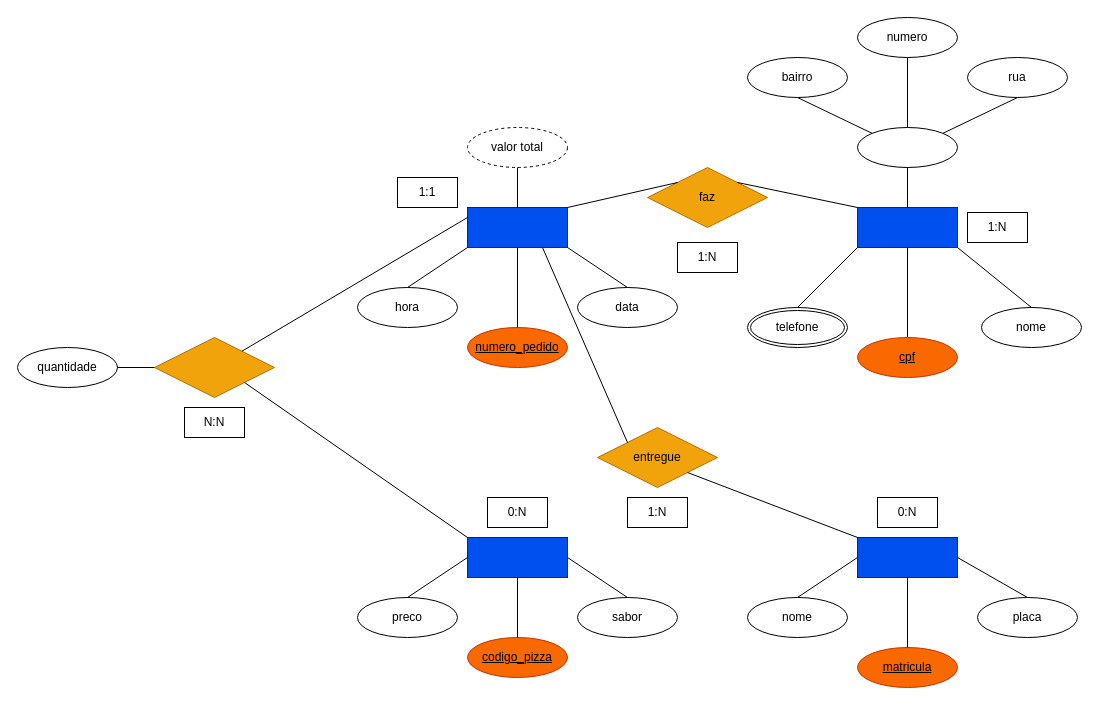
The diagram is 1099 pixels wide and 705 high, and some of its shapes have lost their labels. The shapes that lost their labels are listed below. From the top down, each one's centre as x and y in pixels, then its label:
At [907,147]: "endereco".
At [517,227]: "PEDIDO".
At [907,227]: "CLIENTE".
At [214,367]: "contem".
At [517,557]: "PIZZA".
At [907,557]: "ENTREGADOR".
